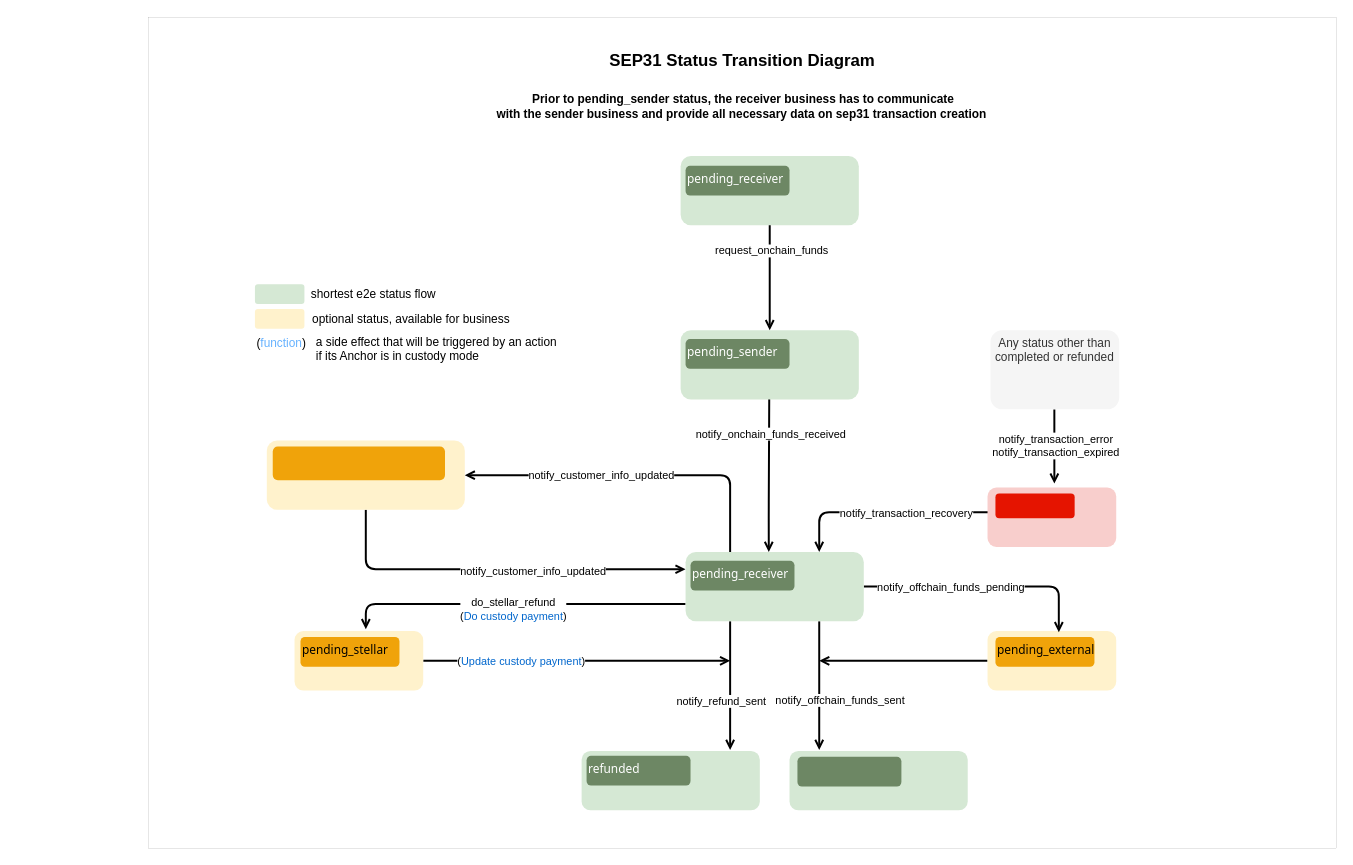
Image size: 1353x865. Some labels were removed from this diagram. The shapes that lost their labels are listed below. From the top down, each one's centre as x and y in pixels, then its label:
the point at 358,463: pending_customer_info_update
the point at 1034,505: error/expired
the point at 849,771: completed
